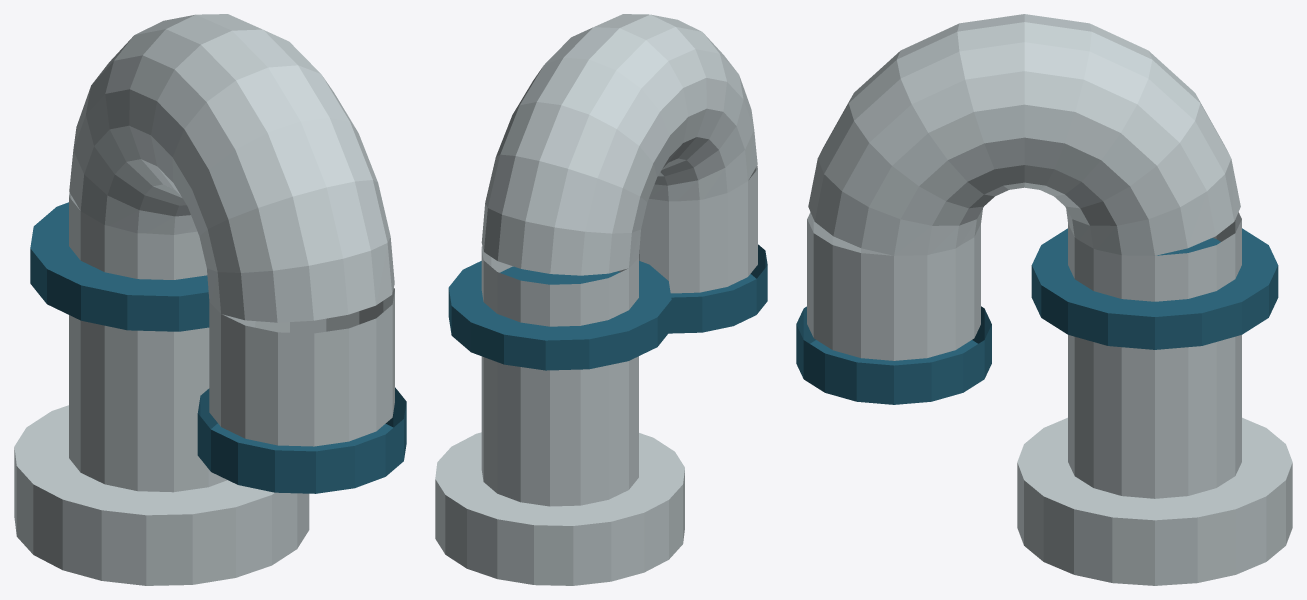
The model's file is body.obj.
The picture shows the model from 3 angles, left to right: view 1: azimuth 30°, elevation 25°; view 2: azimuth 150°, elevation 25°; view 3: azimuth 270°, elevation 25°; orthographic projection. The views are drawn at different scales.
Size of the model in its own units: 0.38 by 0.77 by 0.685.
